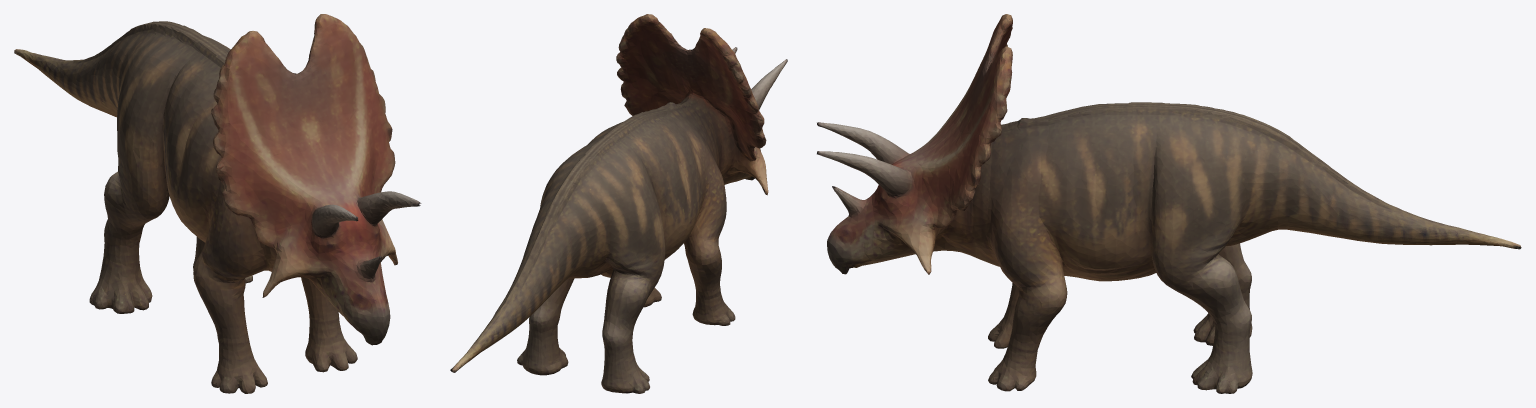
The picture shows the model from 3 angles, left to right: view 1: azimuth 30°, elevation 25°; view 2: azimuth 150°, elevation 25°; view 3: azimuth 270°, elevation 25°; orthographic projection. The views are drawn at different scales.
Visible parts, largest first — view 1: world; view 2: world; view 3: world.
Boxes of the visible parts, x1,y1,x2,y2 form: world: (14, 14, 421, 393); world: (450, 14, 787, 393); world: (817, 14, 1521, 393).
Bounding box in the file's own units: 0.2697 × 0.5175 × 1.
Materials: 1 (1 with a texture image).
